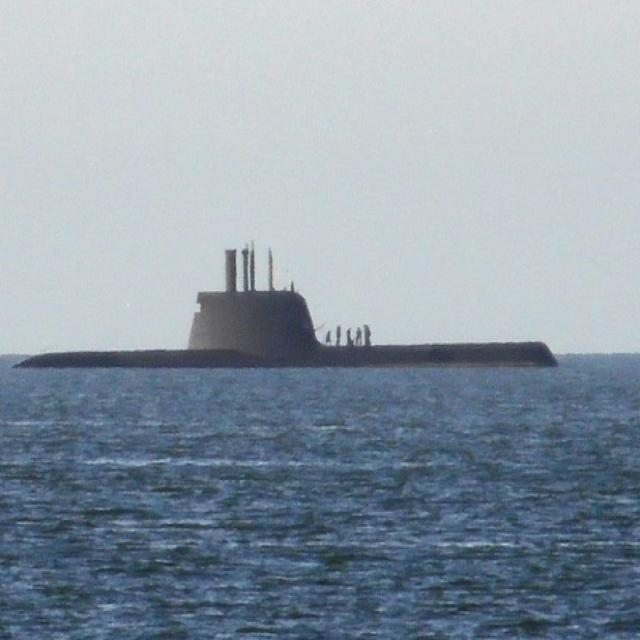submarine: (1, 234, 571, 371)
